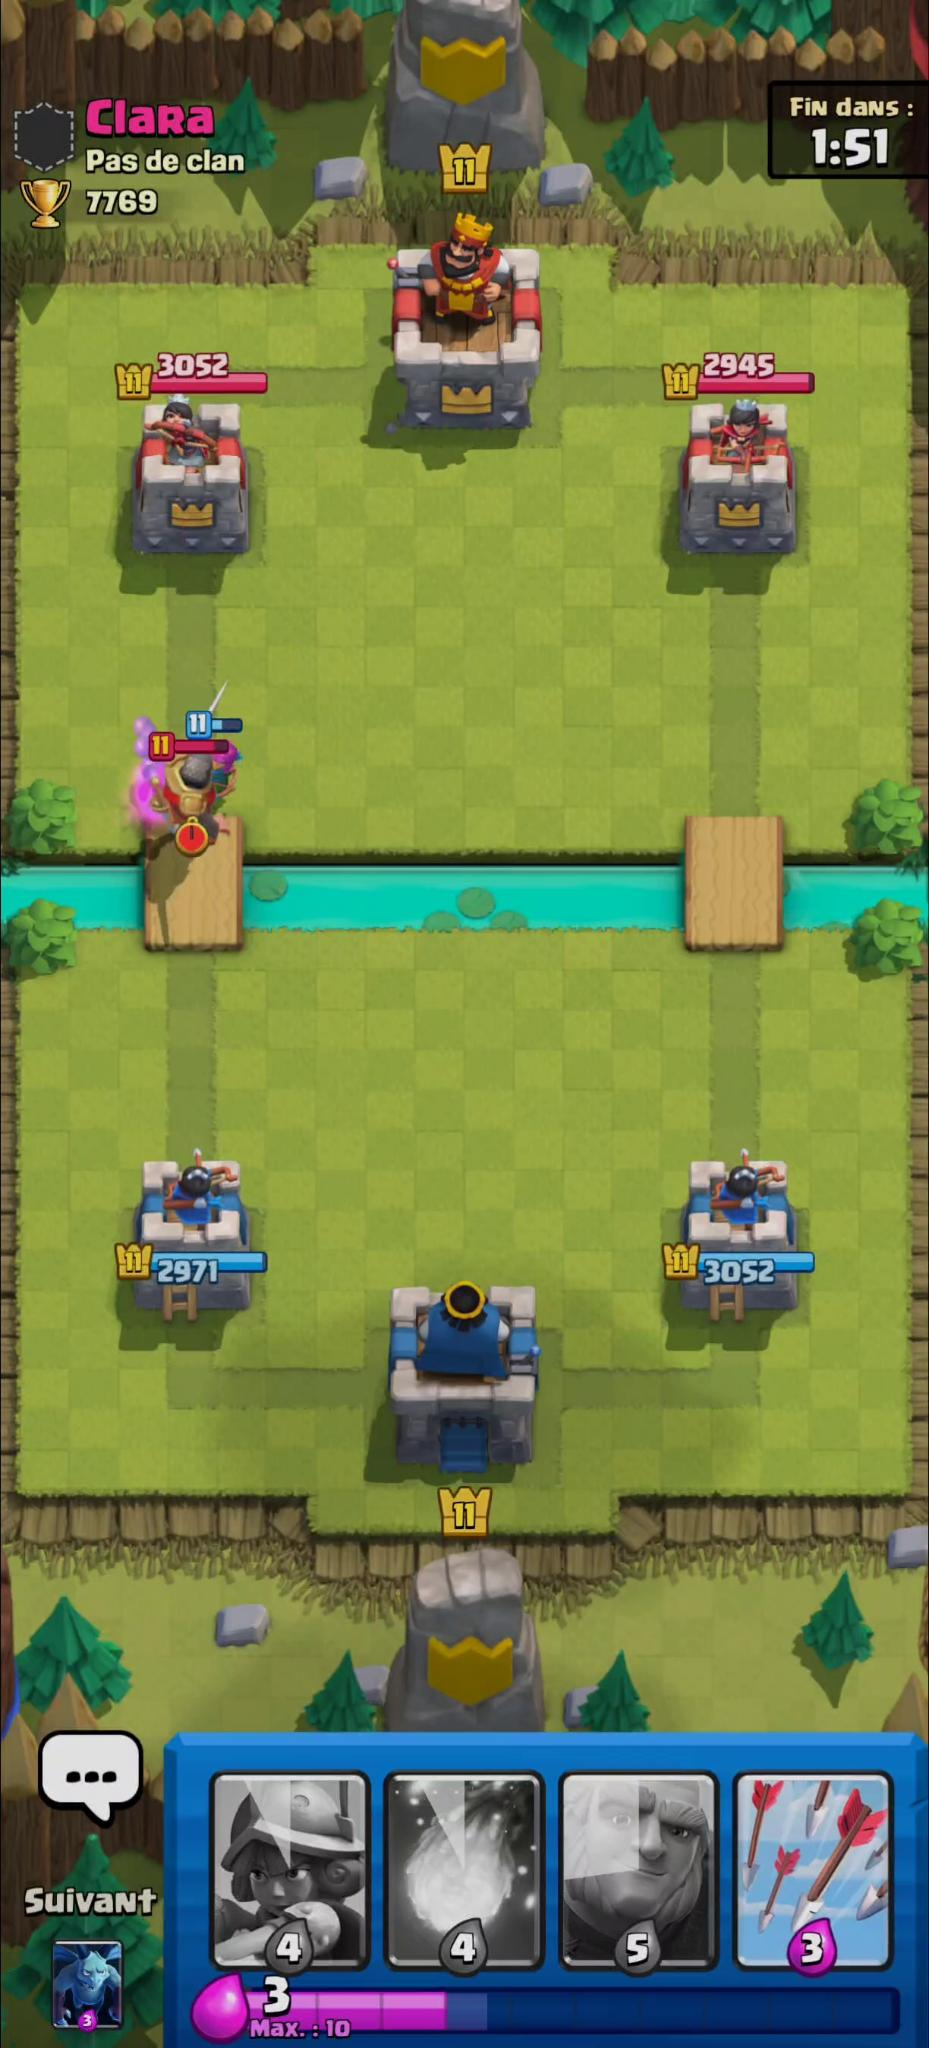archere: (213, 742, 243, 807)
chevalier: (165, 750, 222, 845)
